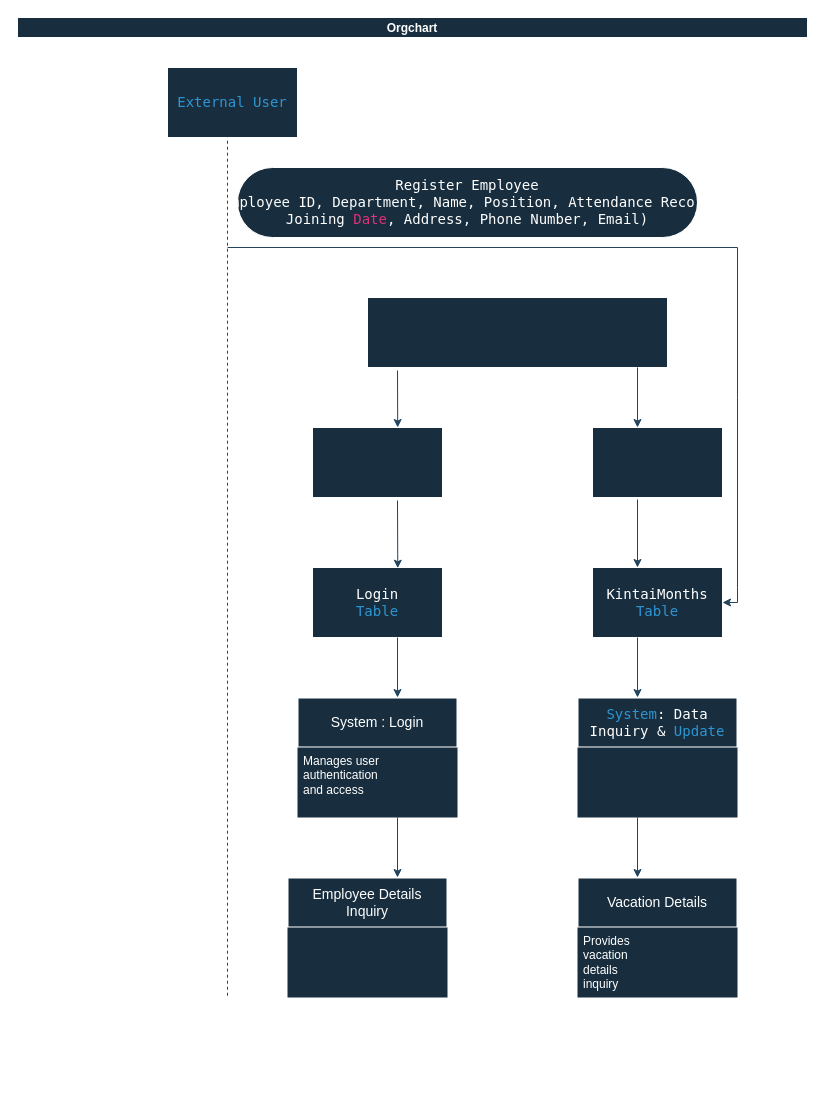
The diagram is 825 pixels wide and 1115 high, and some of its shapes have lost their labels. The shapes that lost their labels are listed below. From the top down, each one's box as (x1, y1, x2, y2) in pixels, then its label:
(366, 296, 668, 368): EmploymentInfo Table
(312, 426, 442, 498): AttendanceRecord Table
(592, 426, 722, 498): VacationInquiry Table
(577, 747, 737, 817): Manages data retrieval and update
(287, 927, 447, 997): Provides detailed employee information
